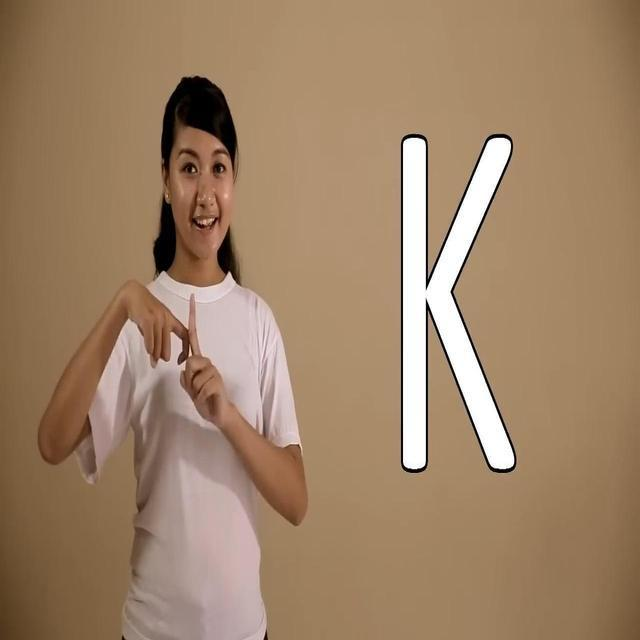K: (154, 288, 230, 425)
